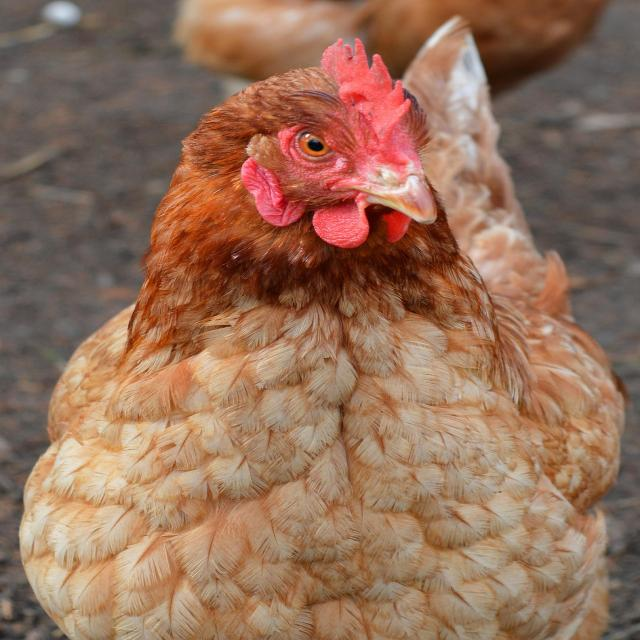Chicken: (0, 15, 625, 632)
